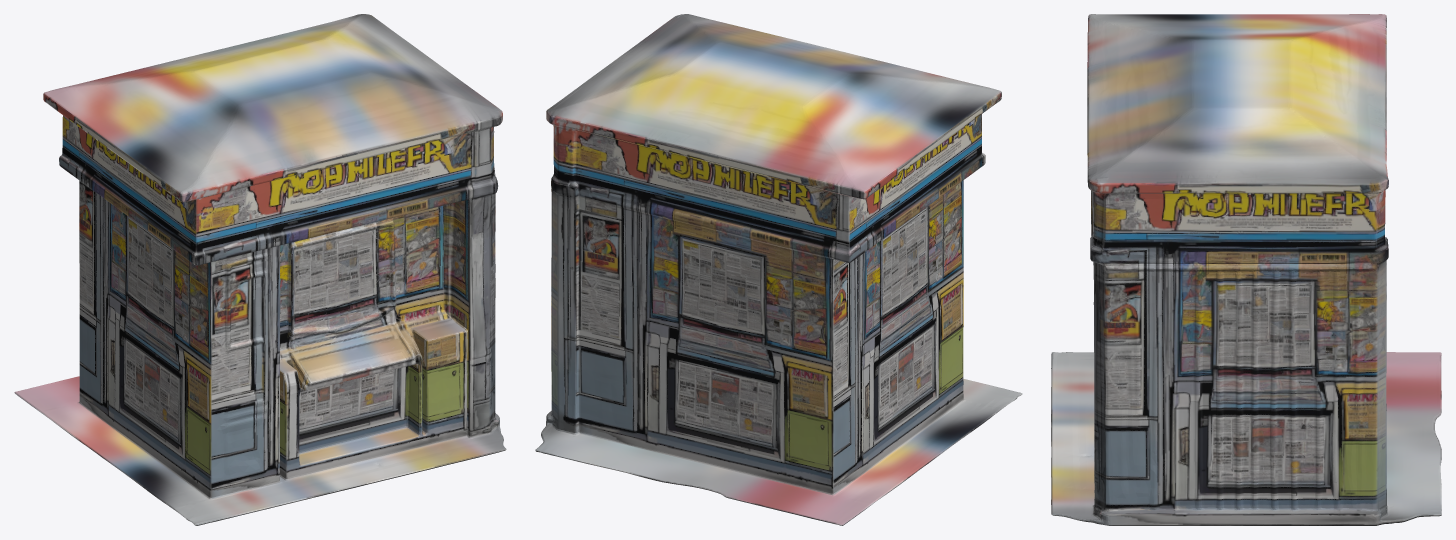
File: kiosk.glb
3 renders of one model, left to right at view 1: azimuth 30°, elevation 25°; view 2: azimuth 150°, elevation 25°; view 3: azimuth 270°, elevation 25°, orthographic. The views are drawn at different scales.
Parts seen in each view (by area): view 1: kiosk; view 2: kiosk; view 3: kiosk.
Part boxes in pixels (x1,y1,x2,y2): kiosk: (14,14,506,525); kiosk: (535,14,1022,525); kiosk: (1051,14,1441,525).
Bounding box in the file's own units: 3.65 × 3.65 × 3.48.
Materials: 1 (1 with a texture image).
